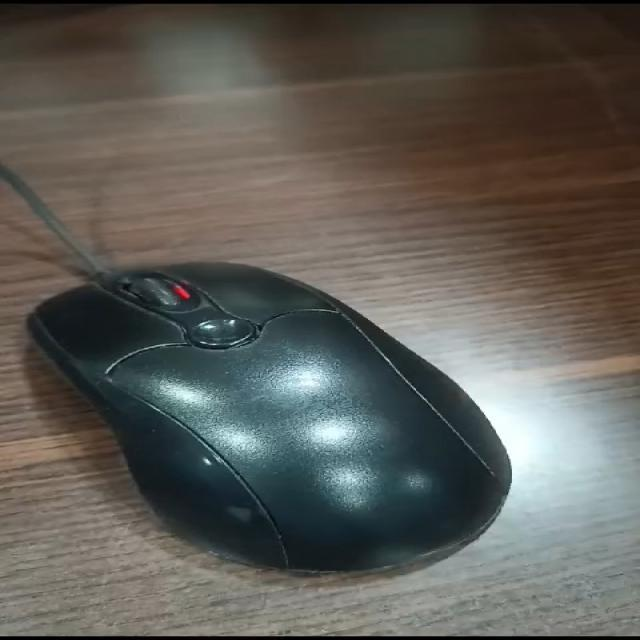Mouse: (14, 243, 528, 584)
